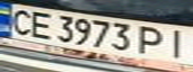3: (109, 19, 136, 53), (51, 12, 75, 44)
7: (90, 17, 112, 50)
9: (69, 16, 93, 47)
C: (3, 6, 36, 37)
E: (27, 8, 57, 41)
I: (160, 26, 193, 60)
P: (136, 22, 172, 56)
